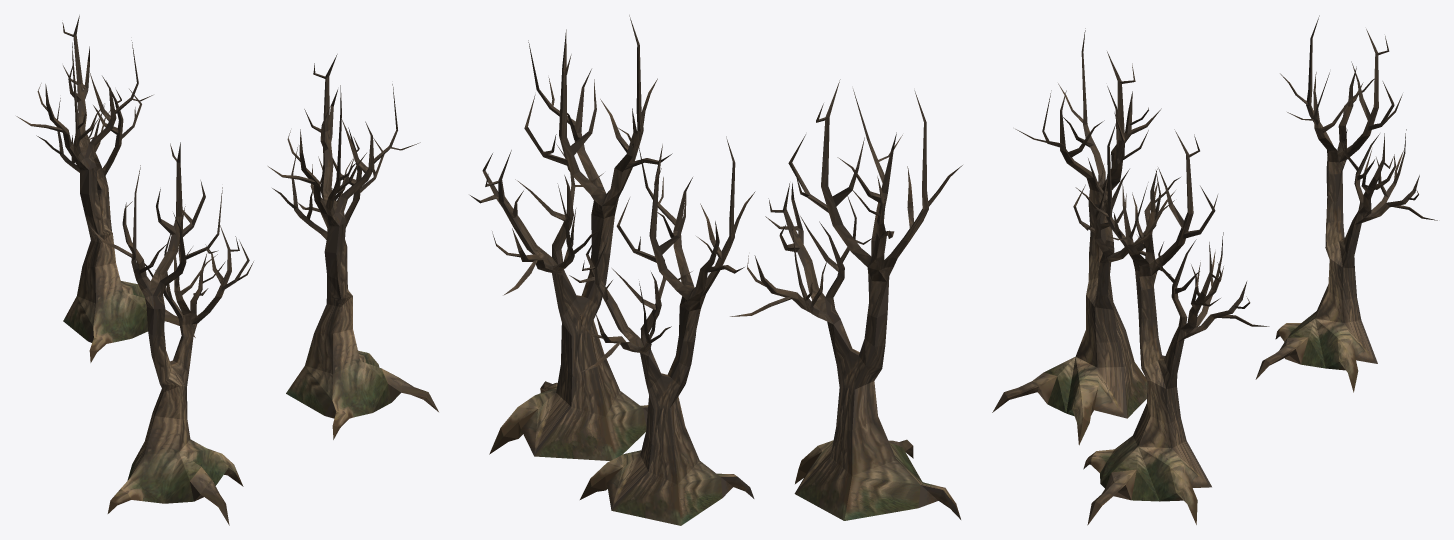
File: plants_tall_tree_trunks09.fbx
3 renders of one model, left to right at view 1: azimuth 30°, elevation 25°; view 2: azimuth 150°, elevation 25°; view 3: azimuth 270°, elevation 25°, orthographic. The views are drawn at different scales.
Parts seen in each view (by area): view 1: obj0.146; view 2: obj0.146; view 3: obj0.146.
Boxes of the visible parts, box(x1,y1,x2,y2) form: obj0.146: box(16, 15, 438, 525); obj0.146: box(470, 15, 962, 525); obj0.146: box(992, 15, 1437, 525).
Bounding box in the file's own units: 9.41 × 10.23 × 10.26.
